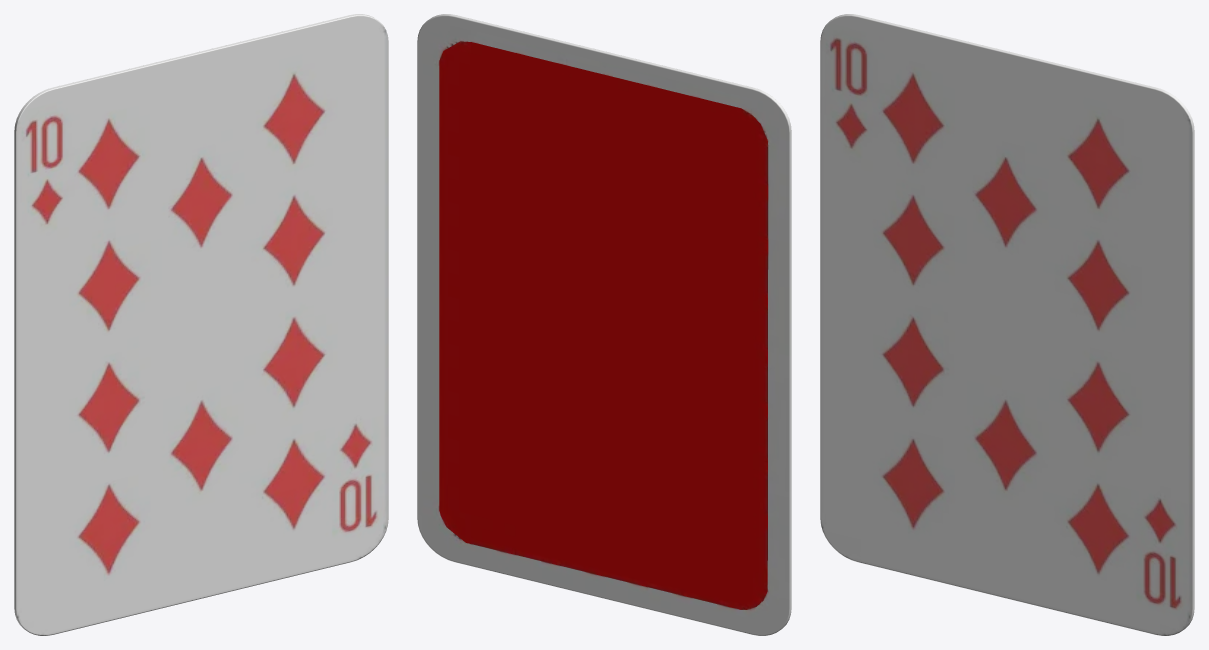
The model's file is diamonds_10.glb.
The picture shows the model from 3 angles, left to right: view 1: azimuth 30°, elevation 25°; view 2: azimuth 150°, elevation 25°; view 3: azimuth 330°, elevation 25°; orthographic projection.
Visible parts, largest first — view 1: defaultMaterial.026; view 2: defaultMaterial.026; view 3: defaultMaterial.026.
Boxes of the visible parts, x1=… form: defaultMaterial.026: x1=14, y1=14, x2=388, y2=635; defaultMaterial.026: x1=417, y1=14, x2=791, y2=635; defaultMaterial.026: x1=820, y1=14, x2=1194, y2=635.
Bounding box in the file's own units: 0.1408 × 0.1972 × 0.00111.
1 material, 1 textured.
